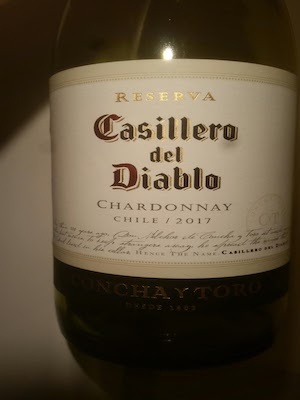casillero del diablo chardonnay: (44, 16, 300, 388)
